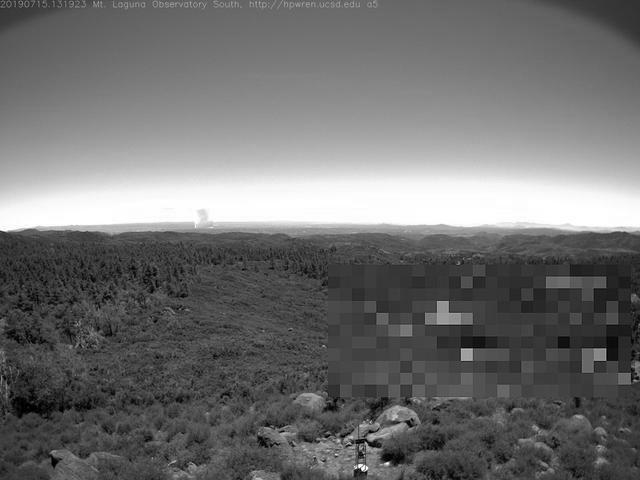smoke: (194, 204, 214, 230)
